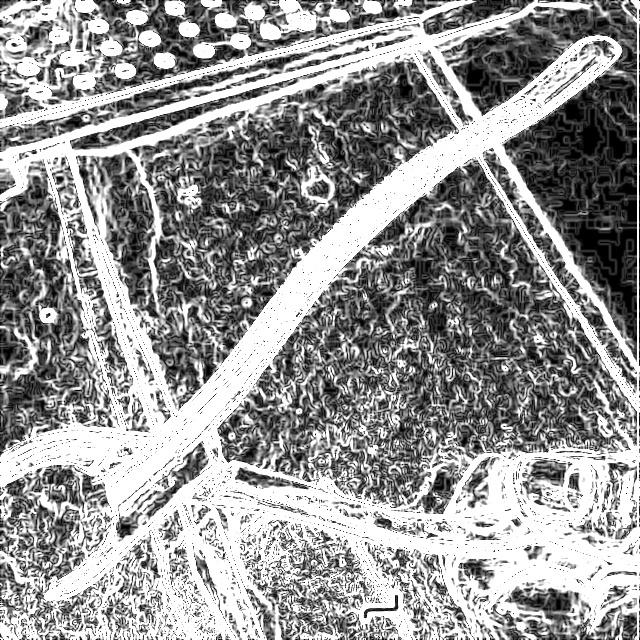forceps: (14, 14, 619, 629)
